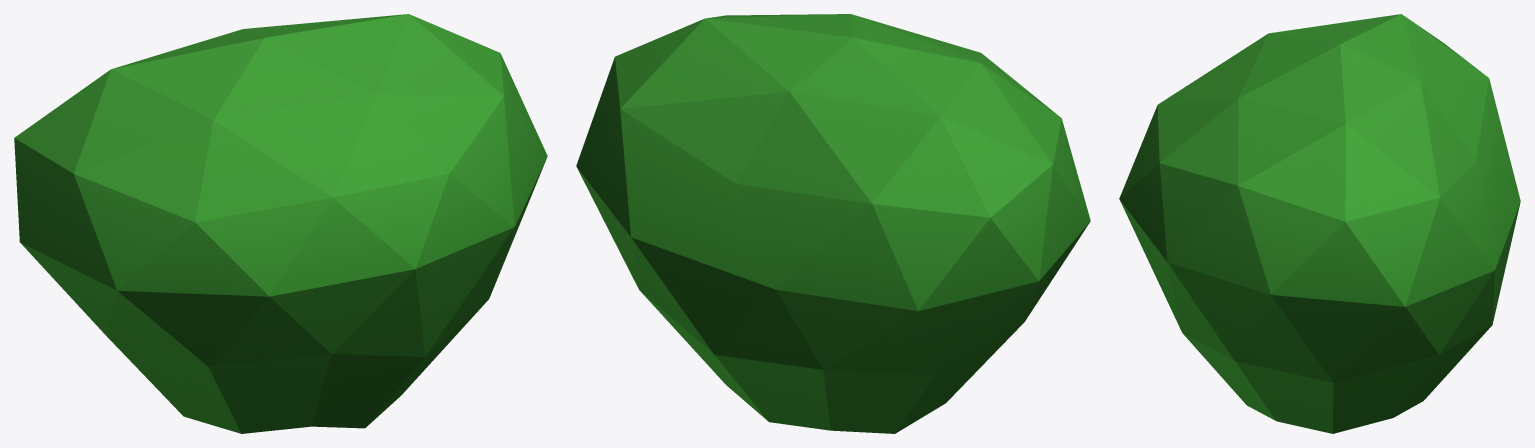
The model's file is Bush.fbx.
The picture shows the model from 3 angles, left to right: view 1: azimuth 30°, elevation 25°; view 2: azimuth 150°, elevation 25°; view 3: azimuth 270°, elevation 25°; orthographic projection. The views are drawn at different scales.
Parts seen in each view (by area): view 1: Bush; view 2: Bush; view 3: Bush.
Part boxes in pixels (<box>): Bush: <box>14,14,547,433</box>; Bush: <box>576,14,1090,433</box>; Bush: <box>1119,14,1520,433</box>.
Bounding box in the file's own units: 264 × 200 × 215.
